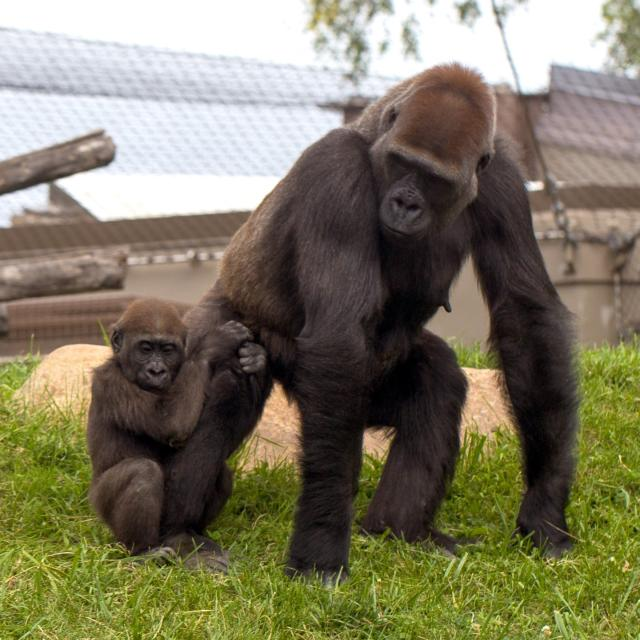Gorilla: (165, 54, 589, 579), (75, 283, 273, 546)
